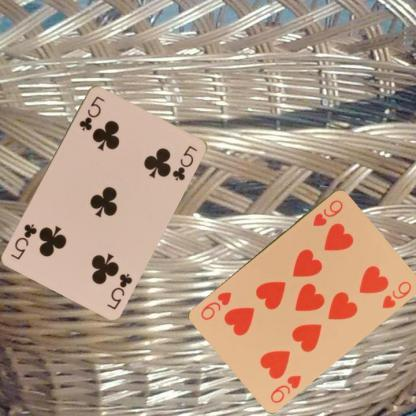5c: (104, 270, 134, 310), (76, 93, 106, 132)
9h: (310, 196, 344, 228), (268, 372, 302, 404)
